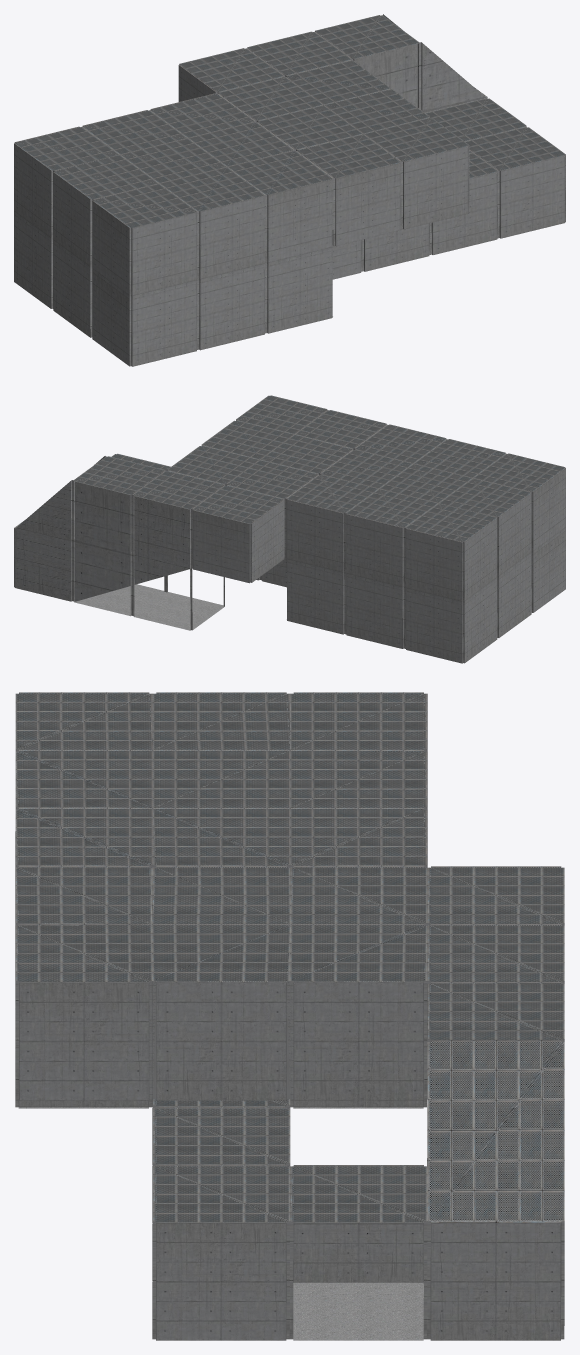
The model's file is ThumperContainment.fbx.
3 views of the same model, one above another, from view 1: azimuth 30°, elevation 25°; view 2: azimuth 150°, elevation 25°; view 3: azimuth 270°, elevation 25° (orthographic). The views are drawn at different scales.
Visible parts, largest first — view 1: Chamber, Upstairs, Hall, Stairs, Corner, Junction; view 2: Chamber, Stairs, Upstairs, Corner, Hall; view 3: Upstairs, Chamber, Stairs, Hall, Junction, Corner.
Part boxes in pixels (<box>): Chamber: <box>14,93,333,366</box>; Upstairs: <box>218,60,469,245</box>; Hall: <box>332,127,565,279</box>; Stairs: <box>247,14,487,112</box>; Corner: <box>178,48,283,101</box>; Junction: <box>426,98,526,141</box>; Chamber: <box>286,424,565,663</box>; Stairs: <box>14,456,224,630</box>; Upstairs: <box>167,395,386,557</box>; Corner: <box>192,485,284,583</box>; Hall: <box>111,453,286,587</box>; Upstairs: <box>15,866,427,1100</box>; Chamber: <box>15,692,427,1108</box>; Stairs: <box>427,924,564,1340</box>; Hall: <box>152,1099,290,1340</box>; Junction: <box>289,1165,427,1340</box>; Corner: <box>427,866,564,925</box>.
Bounding box in the file's own units: 1400 × 389 × 801.
